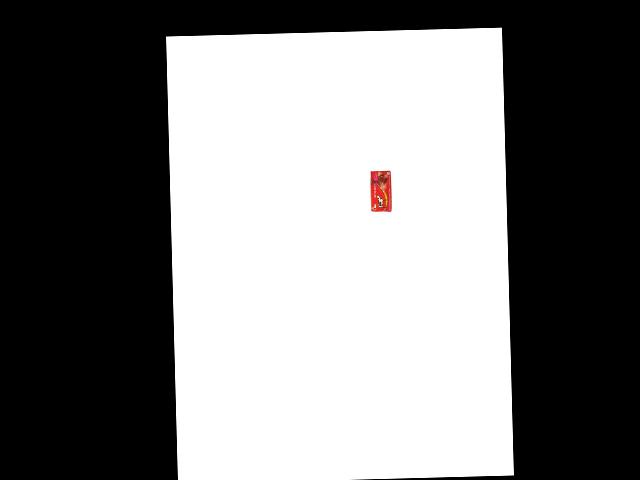chocolate: (370, 170, 394, 214)
